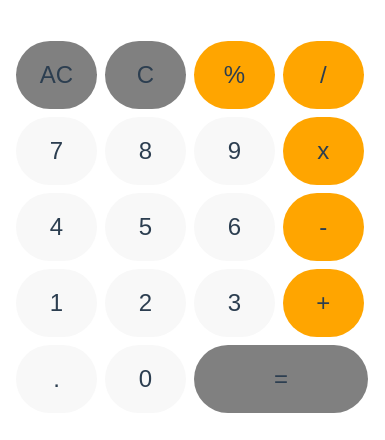
Test: Calculator › check clearPrevious
#  click 7
Click the button "7": (56, 151) 16,117 -> 97,185
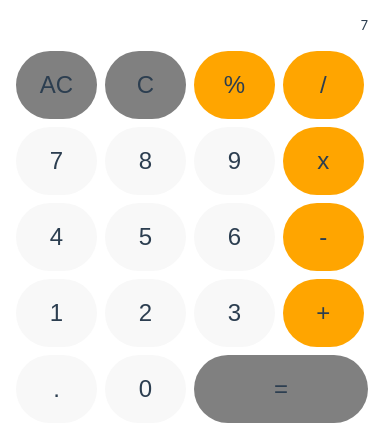
#  click +
Click the button "+": (323, 313) 283,279 -> 364,347
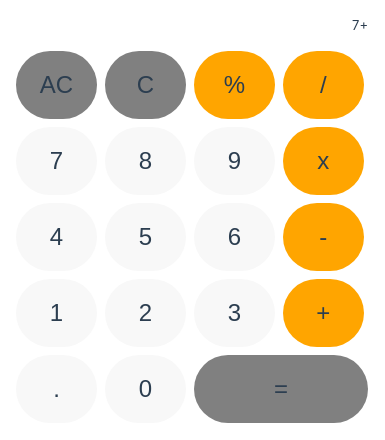
#  click C
Click the button "C": (146, 85) 105,51 -> 186,119
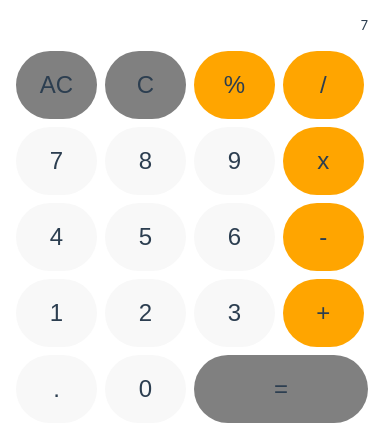
expect the text with id "expr" reads "7": met, box 361,17 -> 368,33
